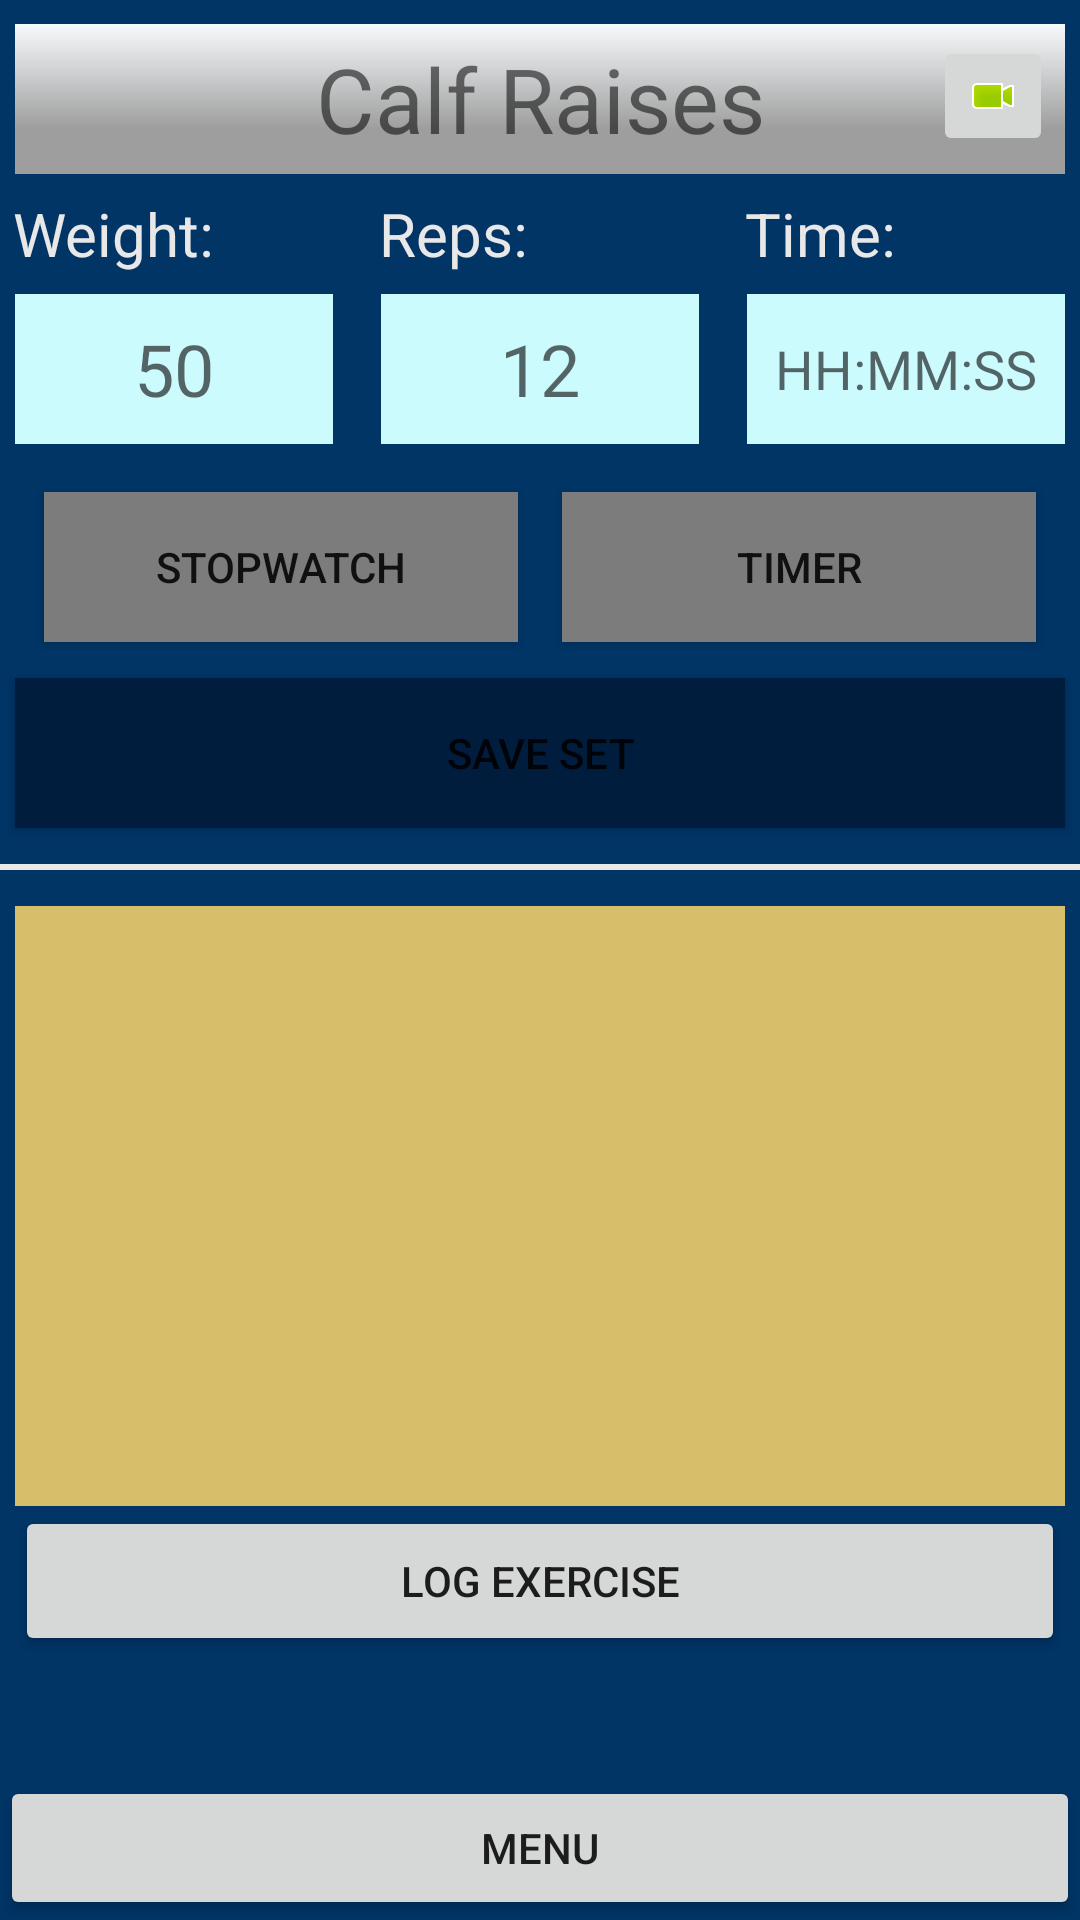

Screen size 1080*1920. Icon name, then its center in pixels as [x,y]:
presence video online: [993,96]
